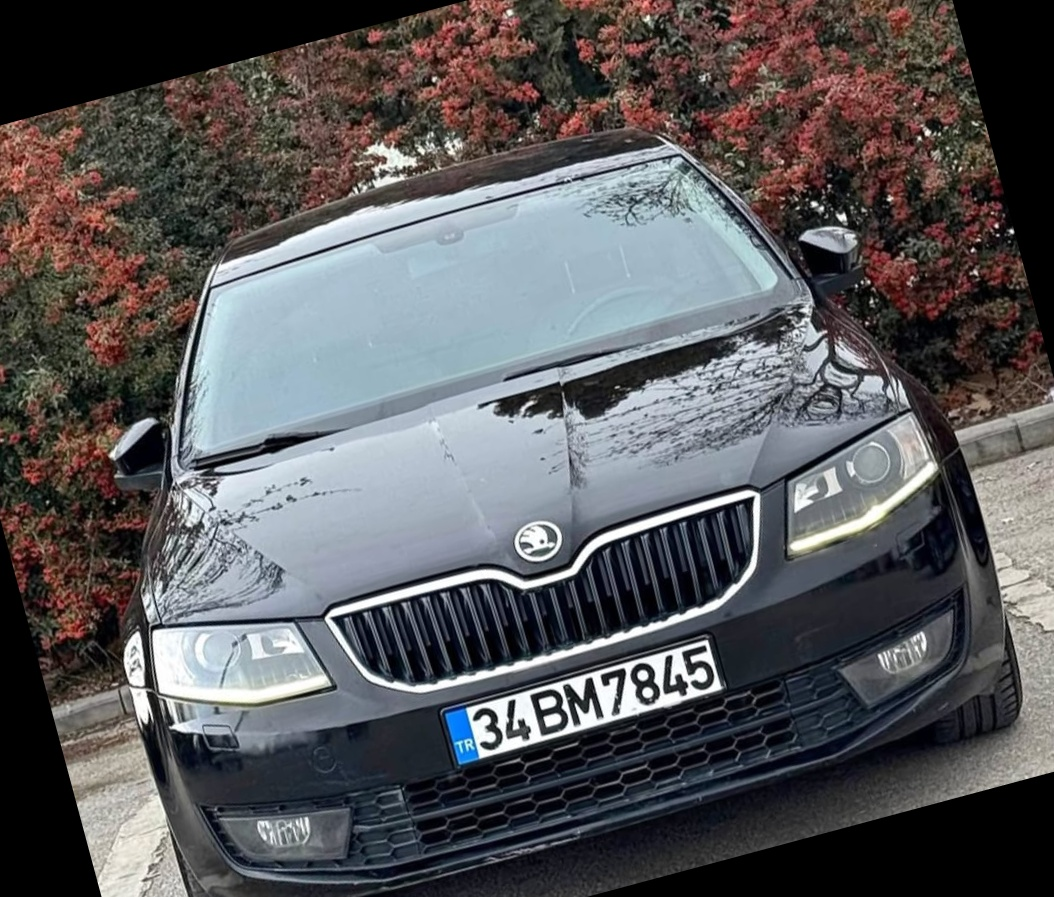plaka: (472, 641, 723, 759)
